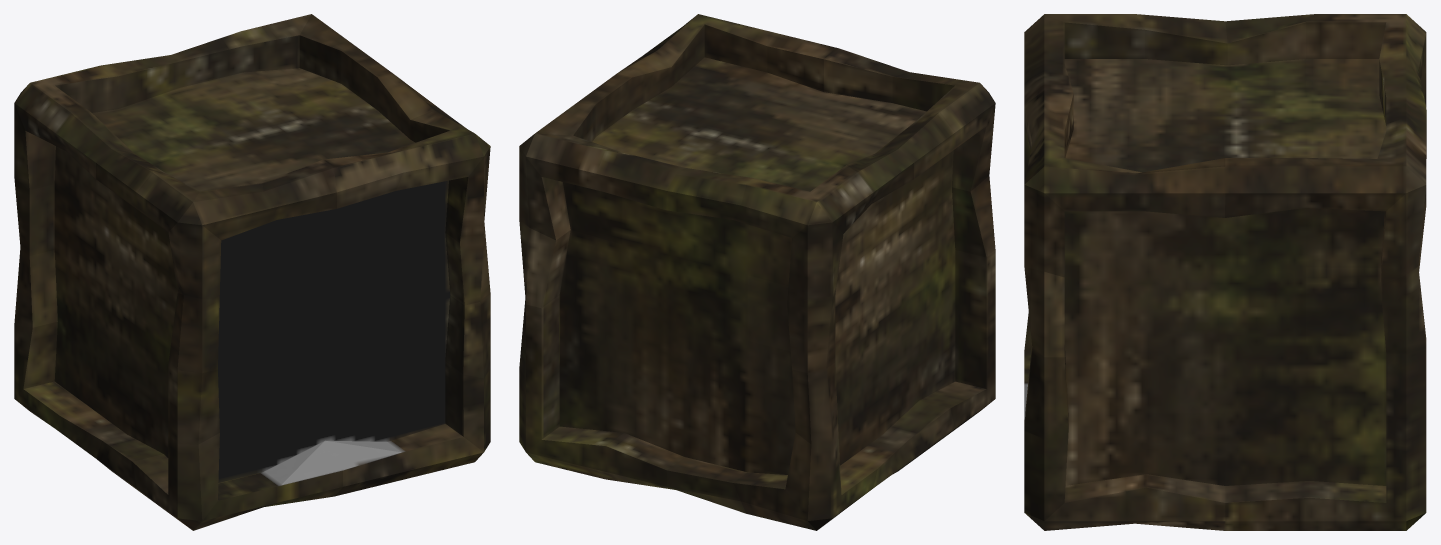
The model's file is Darkwood Drawer.fbx.
3 views of the same model, side by side, from view 1: azimuth 30°, elevation 25°; view 2: azimuth 150°, elevation 25°; view 3: azimuth 270°, elevation 25° (orthographic). The views are drawn at different scales.
Visible parts, largest first — view 1: Cube; view 2: Cube; view 3: Cube.
Boxes of the visible parts, left/top/right/bottom form: Cube: left=14, top=14, right=490, bottom=530; Cube: left=519, top=14, right=995, bottom=530; Cube: left=1024, top=14, right=1426, bottom=530.
Size of the model in its own units: 100 by 100 by 100.
Materials: 1 (1 with a texture image).
